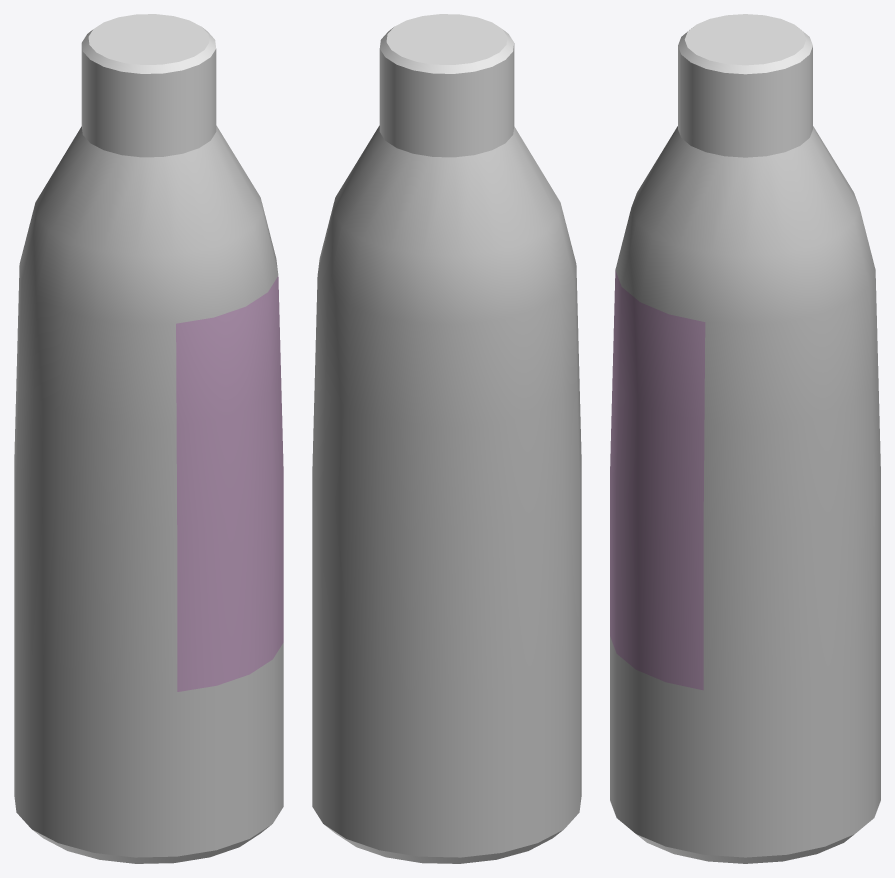
The model's file is Conditioner.fbx.
The picture shows the model from 3 angles, left to right: view 1: azimuth 30°, elevation 25°; view 2: azimuth 150°, elevation 25°; view 3: azimuth 270°, elevation 25°; orthographic projection.
Visible parts, largest first — view 1: Conditioner; view 2: Conditioner; view 3: Conditioner.
Boxes of the visible parts, x1,y1,x2,y2 form: Conditioner: (14, 14, 283, 863); Conditioner: (312, 14, 581, 863); Conditioner: (610, 14, 880, 863).
Size of the model in its own units: 6.91 by 21.76 by 6.91.
